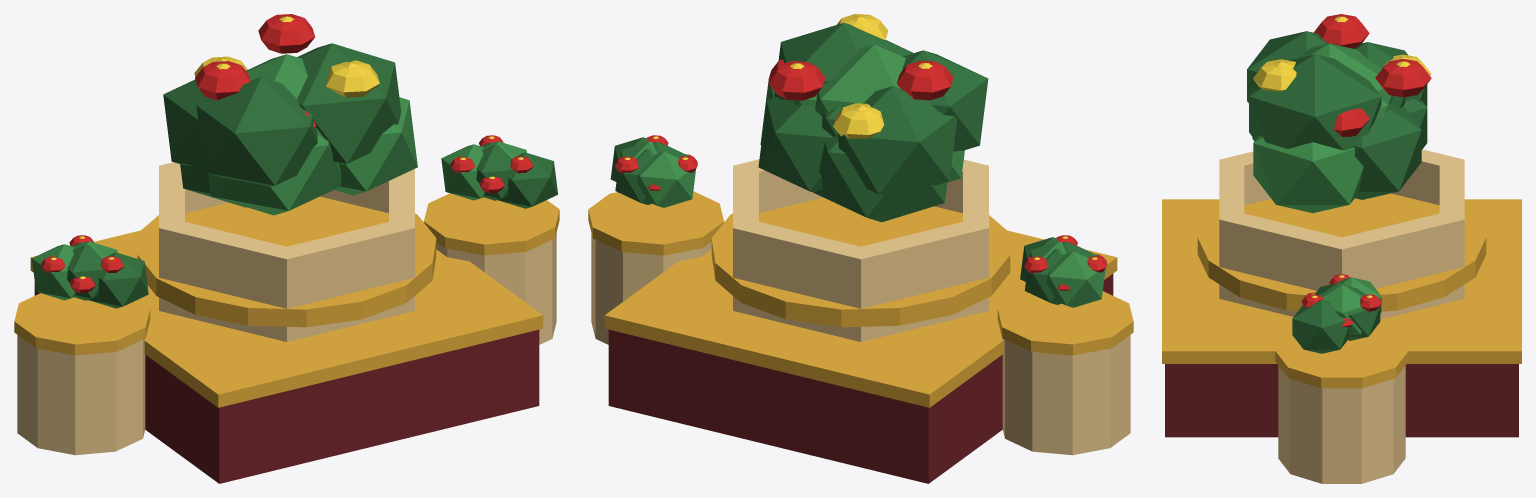
Rendered from decoracao-vaso-n3.glb.
3 views of the same model, side by side, from view 1: azimuth 30°, elevation 25°; view 2: azimuth 150°, elevation 25°; view 3: azimuth 270°, elevation 25° (orthographic). The views are drawn at different scales.
Parts seen in each view (by area): view 1: Cube, pot_small, Cube.001, Cylinder.001, Icosphere.004, Cylinder, Icosphere.009, Cylinder.002, Cylinder.004, Cylinder.003, Icosphere.008, Icosphere.001 (+12 smaller); view 2: Cube, pot_small, Cube.001, Cylinder.001, Cylinder, Icosphere, Cylinder.002, Cylinder.004, Icosphere.002, Cylinder.003, Icosphere.007, Icosphere.006 (+10 smaller); view 3: pot_small, Cube.001, Cube, Cylinder.003, Icosphere.009, Cylinder, Icosphere.001, Cylinder.004, Icosphere.002, Icosphere.017, Icosphere.004, Sphere.002 (+9 smaller).
Boxes of the visible parts, box(x1,y1,x2,y2) form: Cube: box(34, 282, 539, 483); pot_small: box(159, 162, 414, 341); Cube.001: box(30, 230, 543, 407); Cylinder.001: box(17, 335, 145, 455); Icosphere.004: box(196, 77, 317, 186); Cylinder: box(137, 213, 436, 327); Icosphere.009: box(297, 43, 401, 164); Cylinder.002: box(14, 293, 150, 355); Cylinder.004: box(423, 193, 559, 255); Cylinder.003: box(436, 233, 556, 344); Icosphere.008: box(208, 135, 341, 215); Icosphere.001: box(334, 97, 417, 195); Cube: box(608, 274, 1113, 483); pot_small: box(733, 159, 988, 341); Cube.001: box(604, 230, 1117, 407); Cylinder.001: box(1002, 335, 1130, 455); Cylinder: box(711, 213, 1010, 327); Icosphere: box(837, 86, 956, 194); Cylinder.002: box(997, 291, 1133, 355); Cylinder.004: box(588, 191, 724, 255); Icosphere.002: box(758, 96, 832, 192); Cylinder.003: box(591, 233, 711, 344); Icosphere.007: box(814, 136, 947, 222); Icosphere.006: box(815, 44, 905, 116); pot_small: box(1219, 149, 1464, 319); Cube.001: box(1162, 199, 1521, 363); Cube: box(1165, 364, 1518, 437); Cylinder.003: box(1278, 366, 1405, 483); Icosphere.009: box(1249, 54, 1381, 150); Cylinder: box(1197, 207, 1486, 311); Icosphere.001: box(1253, 135, 1363, 213); Cylinder.004: box(1275, 328, 1408, 388); Icosphere.002: box(1354, 104, 1421, 199); Icosphere.017: box(1292, 300, 1351, 353); Icosphere.004: box(1247, 31, 1327, 102); Sphere.002: box(1375, 59, 1431, 97).
Bounding box in the file's own units: 0.6621 × 0.4568 × 0.4108.
